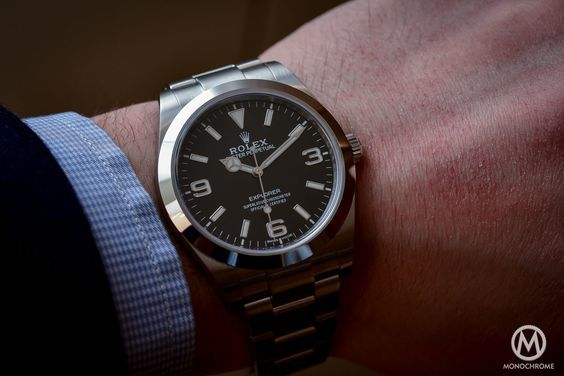clock: (176, 92, 340, 251)
